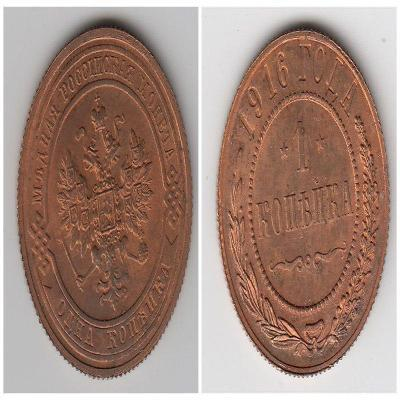numismatics: (17, 30, 192, 376), (218, 30, 389, 373)
